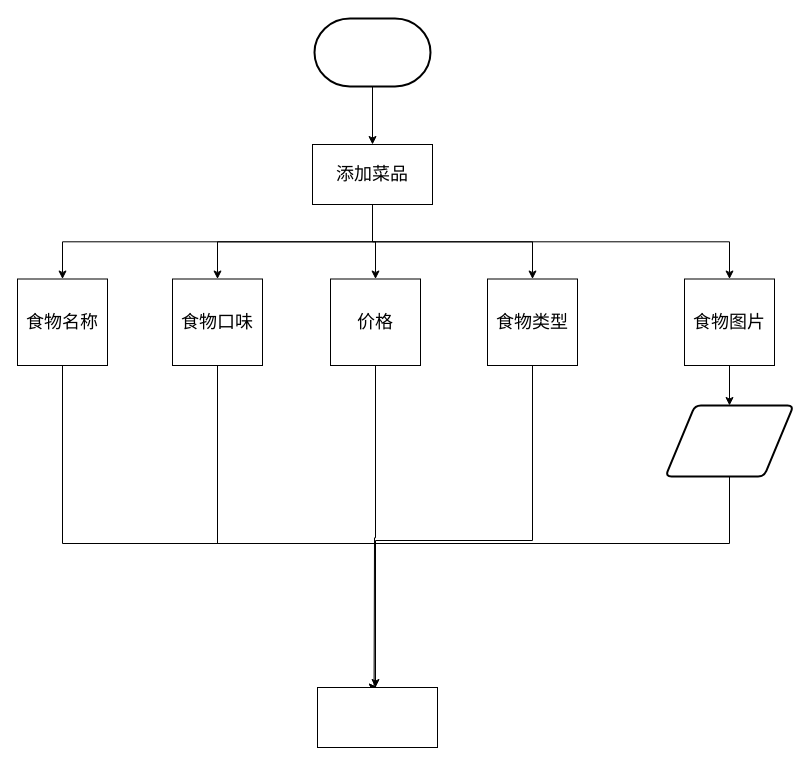
The diagram is 812 pixels wide and 765 high, and some of its shapes have lost their labels. The shapes that lost their labels are listed below. From the top down, each one's centre as x and y in pixels, then its label:
At (372,52): "开始".
At (729,440): "图片数据流化".
At (377,717): "添加完成".
